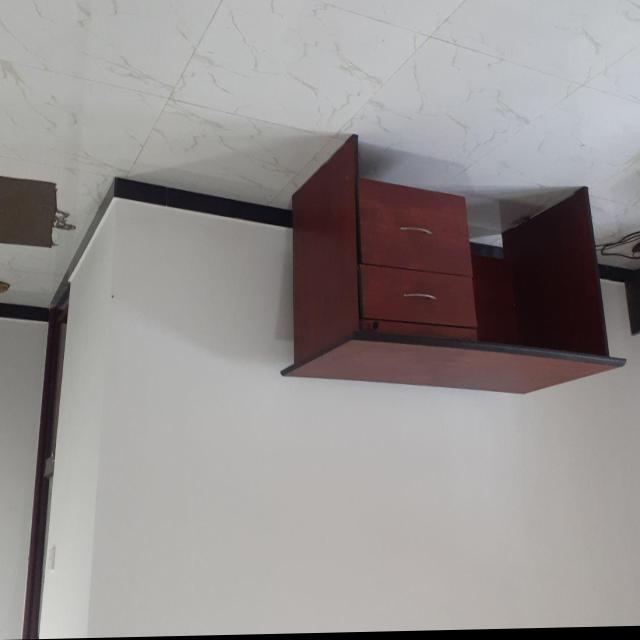Table: (248, 111, 636, 417)
